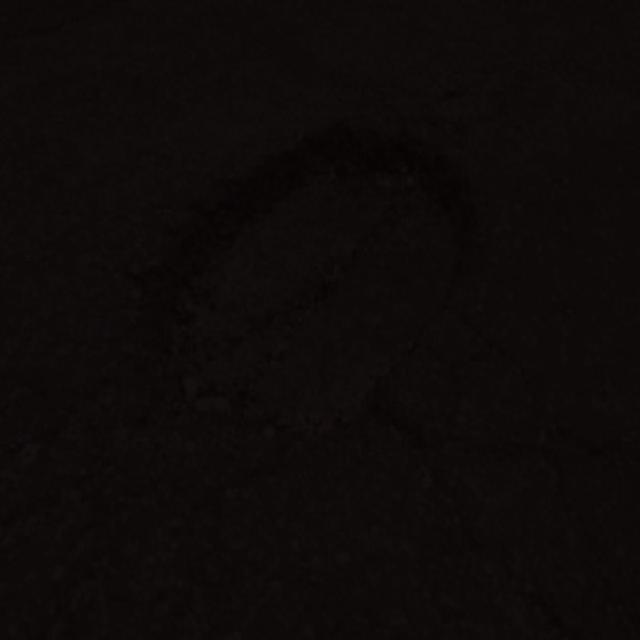Pothole: (110, 107, 484, 456)
